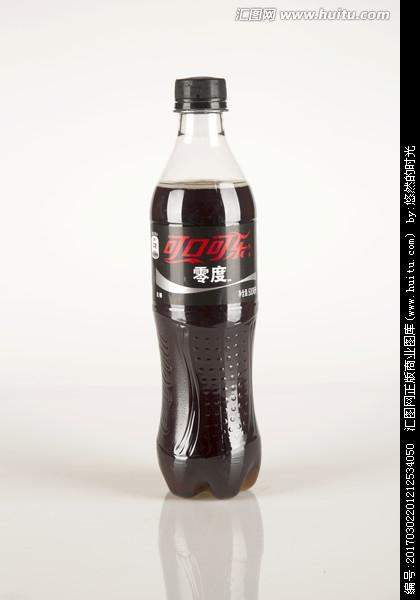coke_zero: (120, 61, 290, 517)
